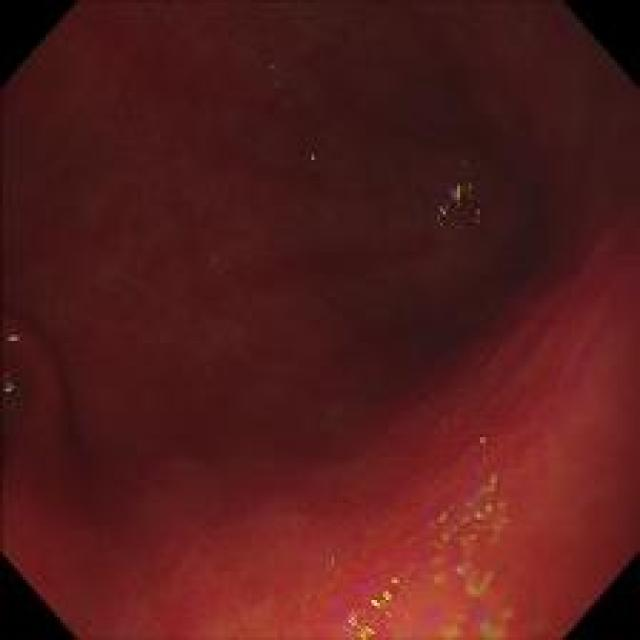color misalignment: (441, 502, 494, 602), (339, 574, 401, 630), (429, 170, 484, 221), (1, 335, 29, 409), (440, 604, 515, 631), (436, 619, 511, 638), (302, 145, 320, 164), (475, 434, 491, 450)
contrast: (29, 81, 598, 456)
